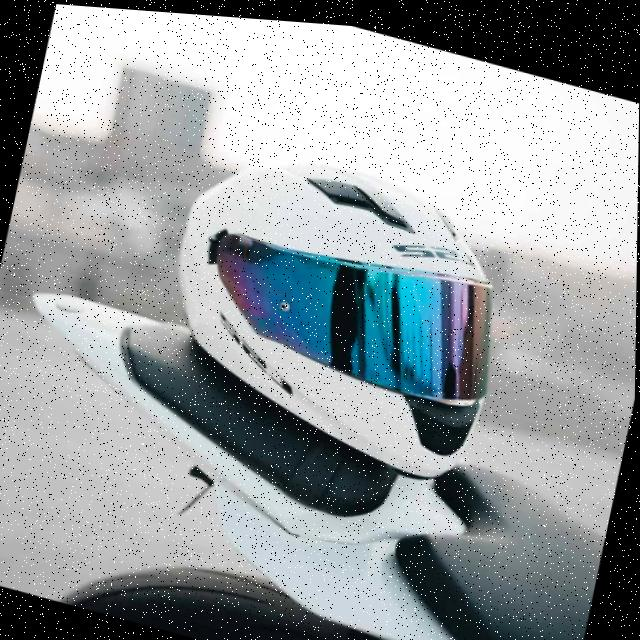helmet: (137, 109, 540, 499)
